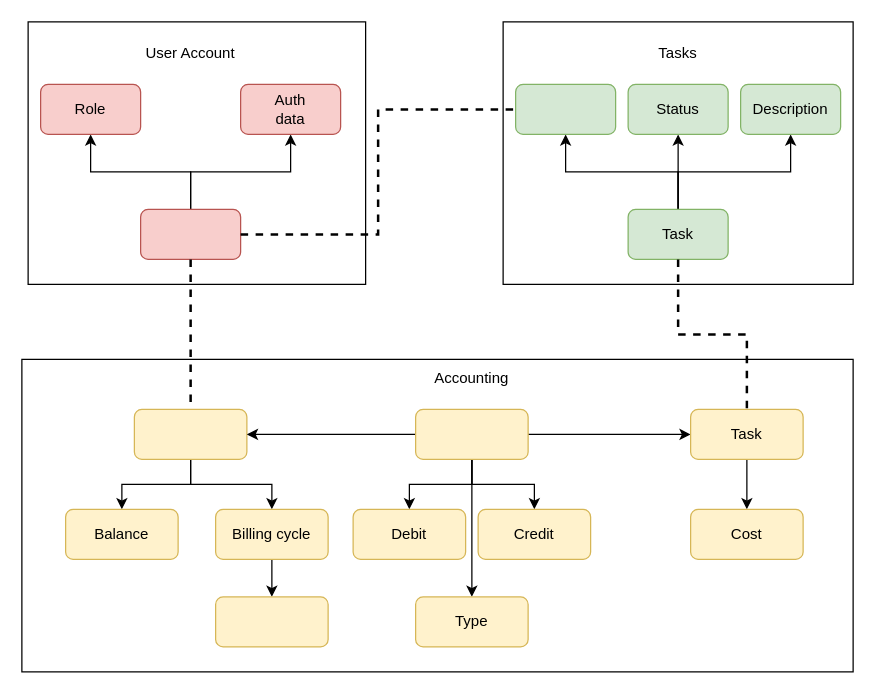
Some shapes in this 875 by 694 pixel diagram are drawn without their labels. Here are the shapes that lost their labels. From the top down, the box of each, then its label:
(514, 83, 616, 134): Assignee
(139, 208, 241, 259): User
(133, 408, 247, 459): Account
(414, 408, 528, 459): Audit log / Transaction
(214, 596, 328, 647): Payment
